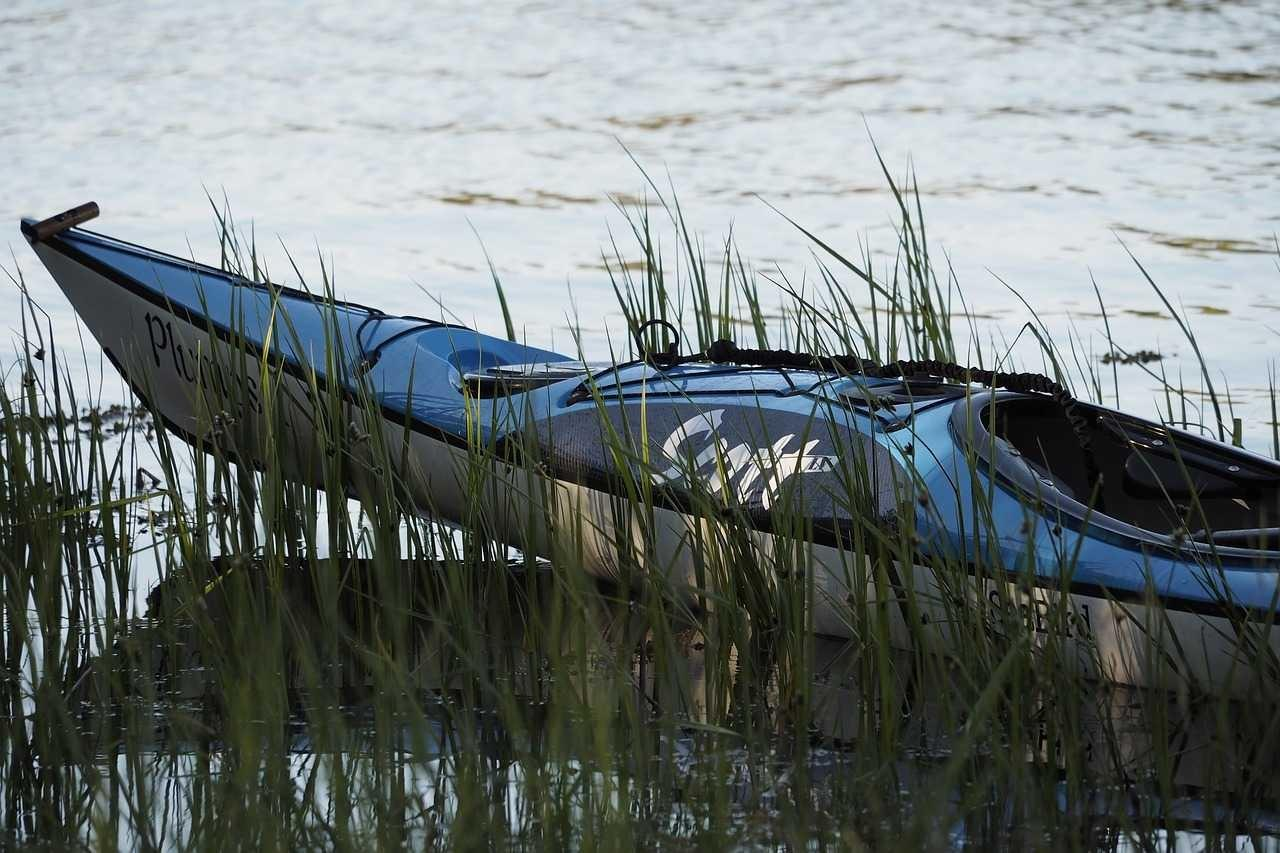kayak: (8, 168, 1279, 750)
